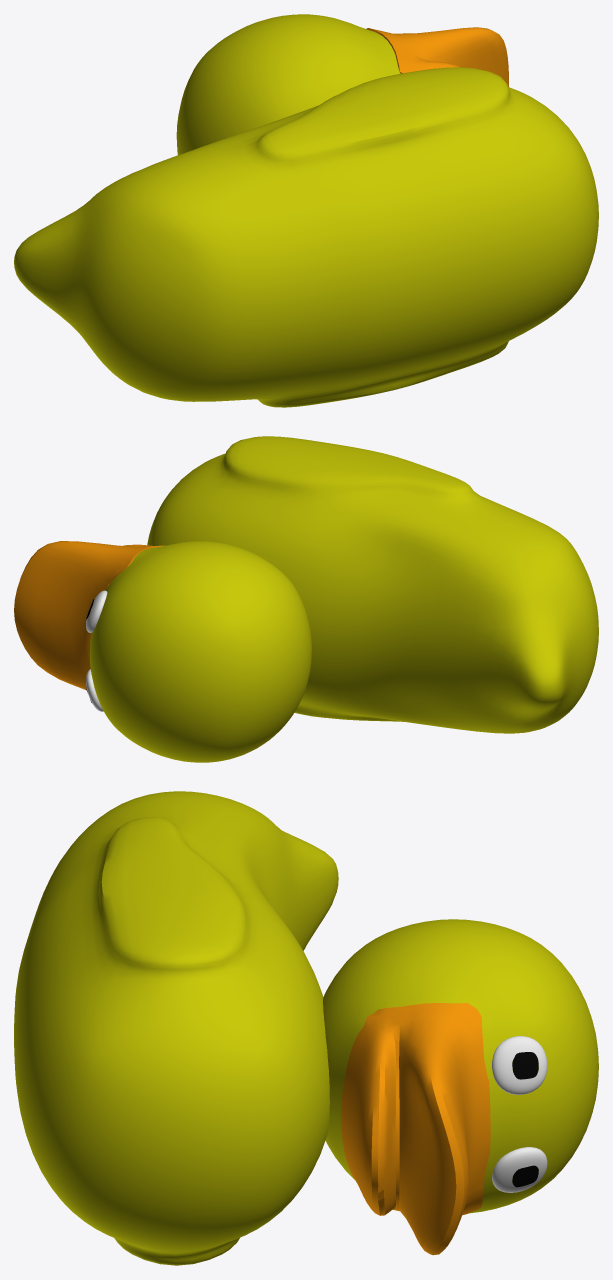
File: duck1.fbx
The picture shows the model from 3 angles, top to bottom: view 1: azimuth 30°, elevation 25°; view 2: azimuth 150°, elevation 25°; view 3: azimuth 270°, elevation 25°; orthographic projection. The views are drawn at different scales.
Visible parts, largest first — view 1: Duck; view 2: Duck; view 3: Duck.
Part boxes in pixels (left/top/right/bottom): Duck: left=14, top=14, right=598, bottom=407; Duck: left=14, top=436, right=598, bottom=762; Duck: left=14, top=791, right=598, bottom=1265.
Size of the model in its own units: 85.25 by 52.46 by 110.
